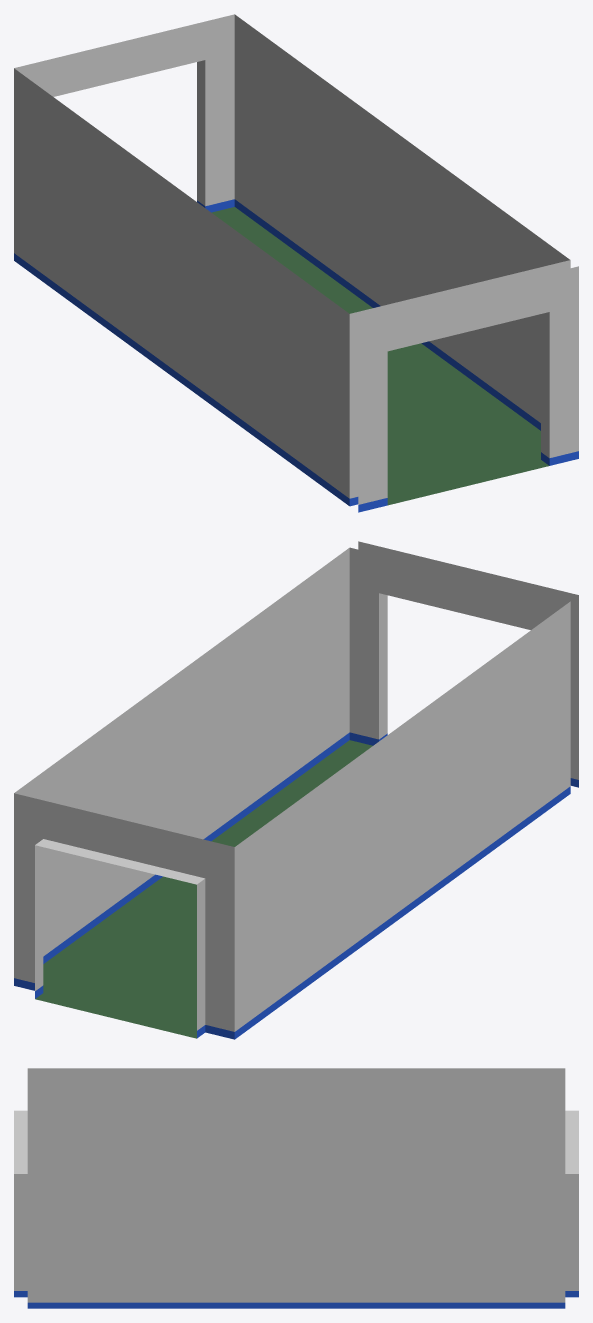
Rendered from Transicion2.fbx.
3 views of the same model, one above another, from view 1: azimuth 30°, elevation 25°; view 2: azimuth 150°, elevation 25°; view 3: azimuth 270°, elevation 25° (orthographic). The views are drawn at different scales.
Parts seen in each view (by area): view 1: transicion2; view 2: transicion2; view 3: transicion2.
Part boxes in pixels (<box>): transicion2: <box>14,14,578,512</box>; transicion2: <box>14,541,578,1039</box>; transicion2: <box>14,1068,578,1308</box>.
Bounding box in the file's own units: 300 × 250 × 830.
